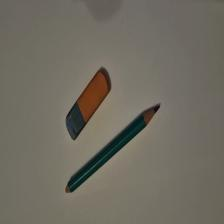eraser: (67, 71, 112, 142)
pencil: (67, 106, 162, 195)
